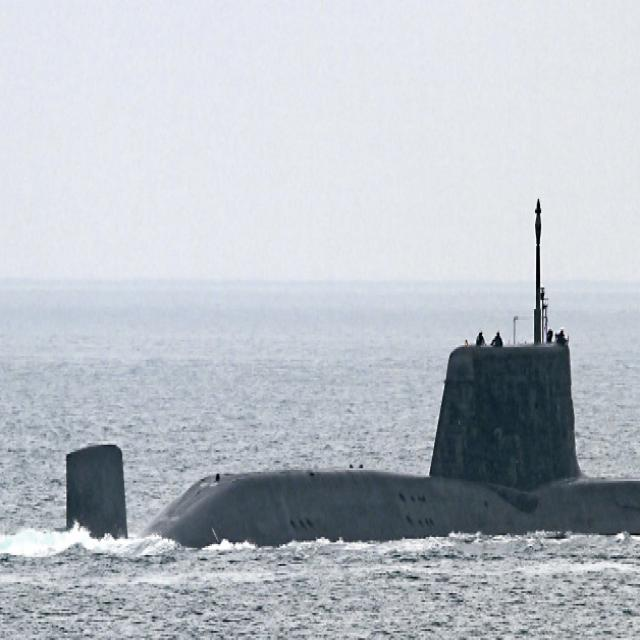submarine: (63, 196, 640, 536)
